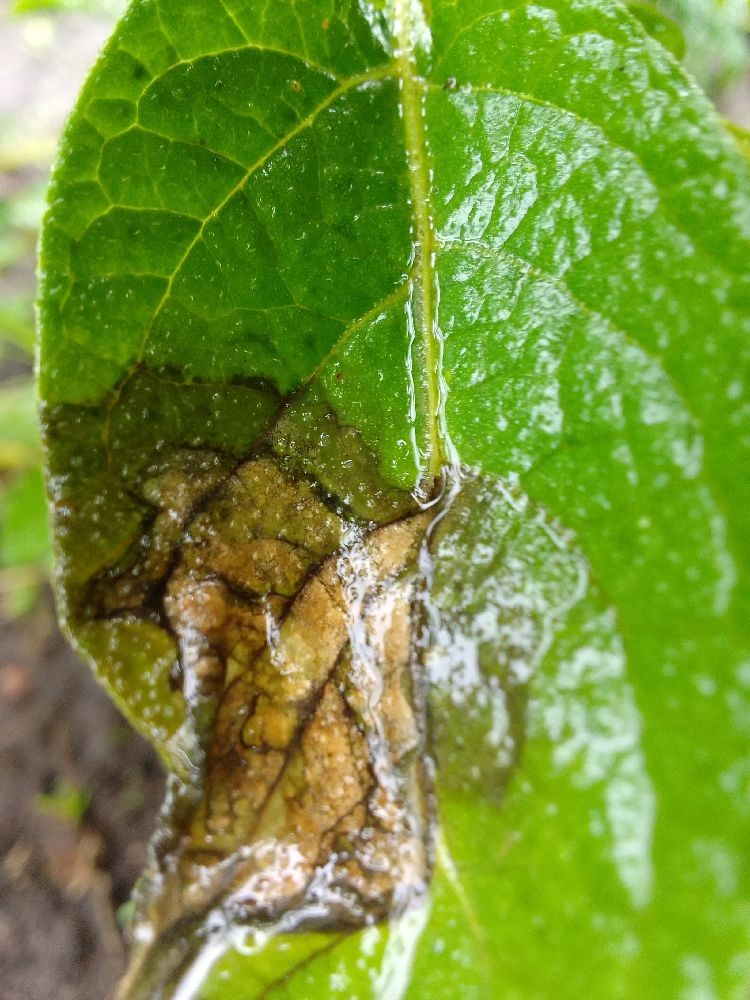late_blight: (0, 391, 482, 999), (461, 658, 542, 813)
